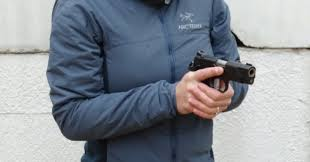Gun: (196, 55, 253, 91)
